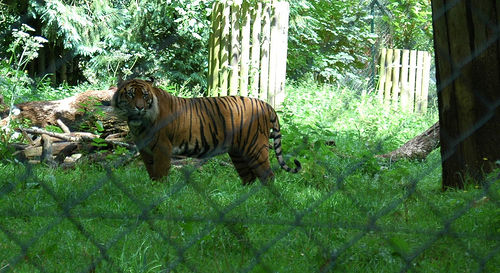Tigre: (113, 74, 298, 193)
